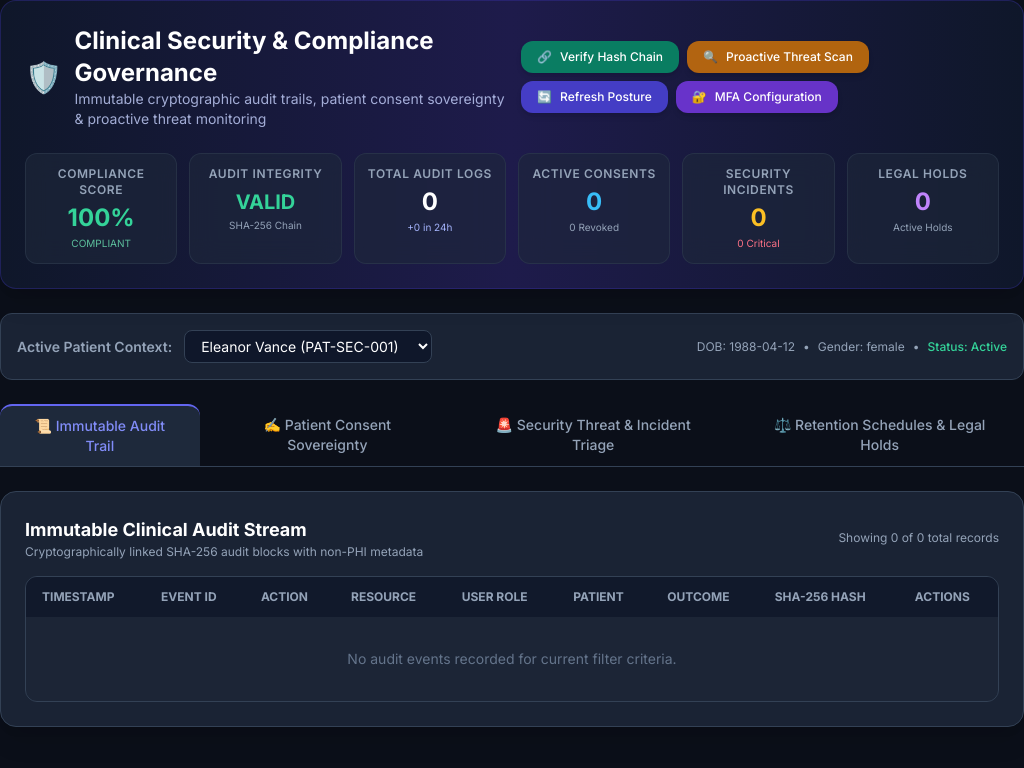
Test case: SecurityComplianceWorkspace Component › navigates to Retention & Legal Holds tab and displays policies and holds
The image size is (1024, 768).
Click the button with test id "tab-governance".
click(880, 435)  # box top-left (735, 404), bottom-right (1023, 466)
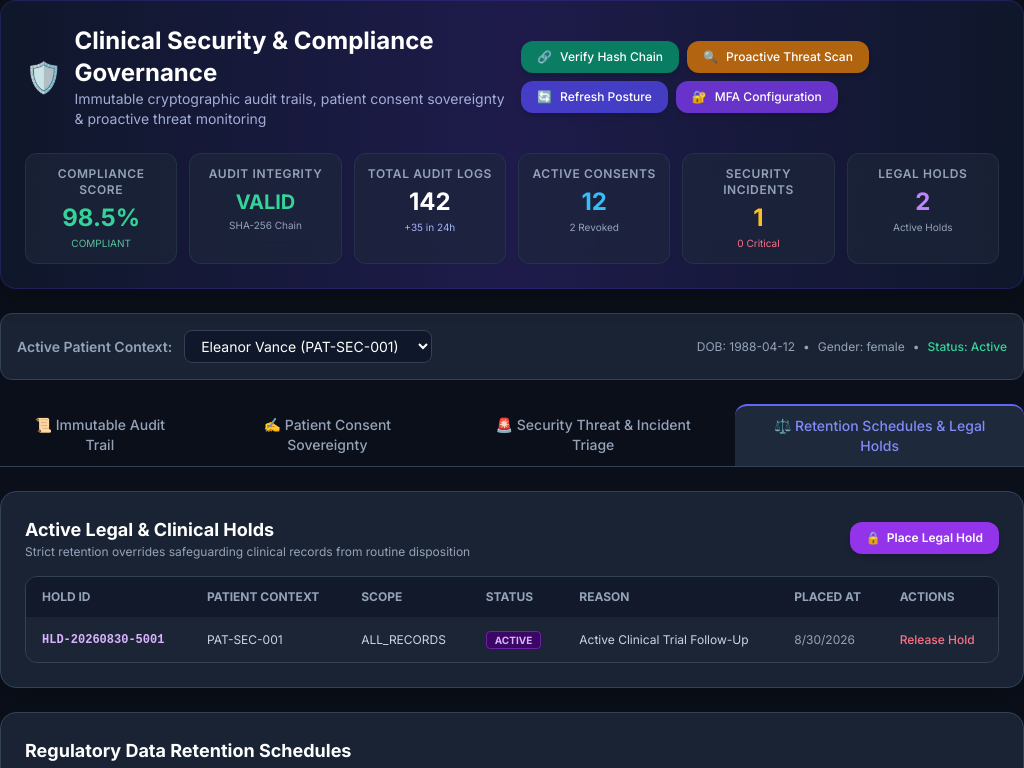
Expected: the text "HLD-20260830-5001" is shown, top-left (26, 617), bottom-right (191, 662)
